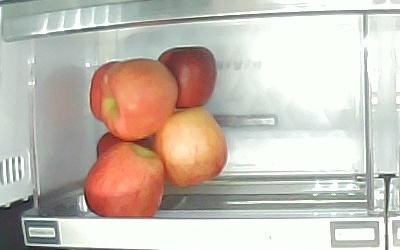apple: (101, 57, 178, 141), (83, 142, 165, 220), (154, 106, 229, 188), (156, 46, 216, 109), (89, 61, 121, 121), (97, 131, 154, 159)
